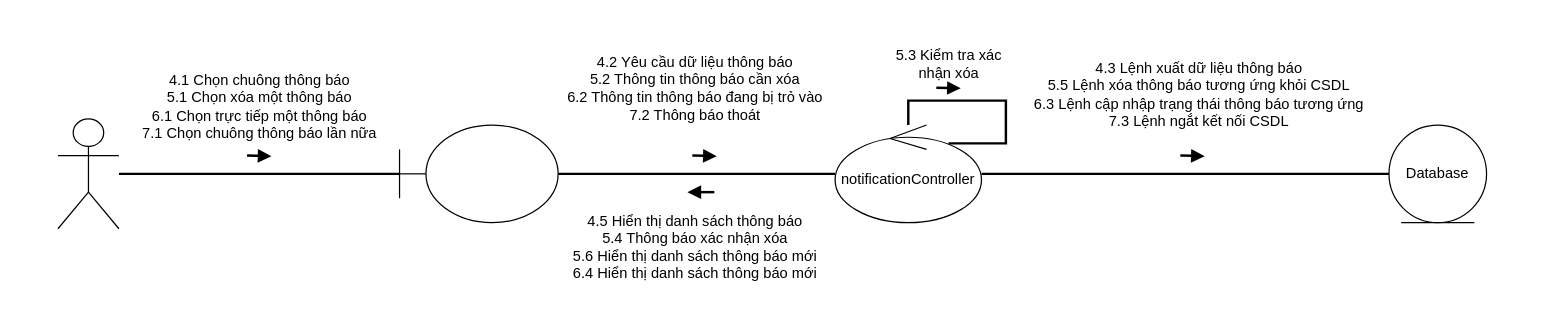
This 1554x334 diagram has some shape labels left out. Each missing label, with the centre of its shape:
User: point 88,173
UserNotification: UI: point 478,173
